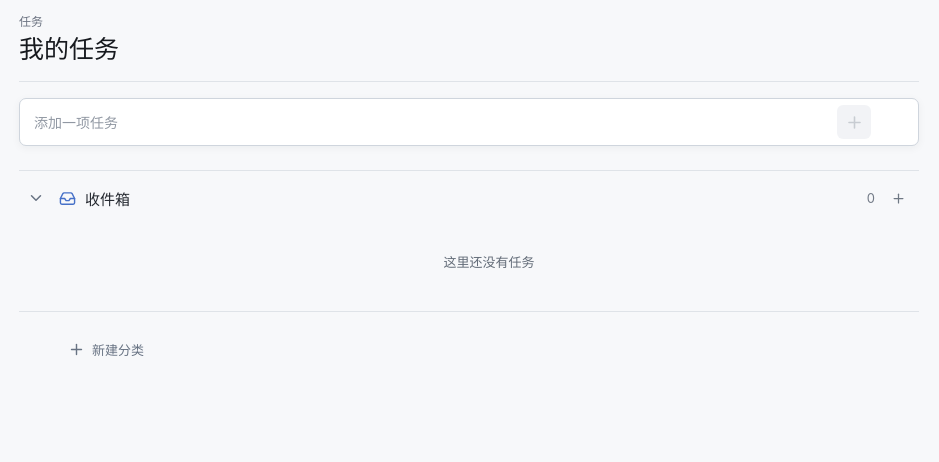
Test case: WorkspaceProvider › keeps only the latest failed draft snapshot and can retry it
The image size is (939, 462).
Type "最新草稿" into the field named "快速添加任务" at (436, 122), box [34,104,837,140]
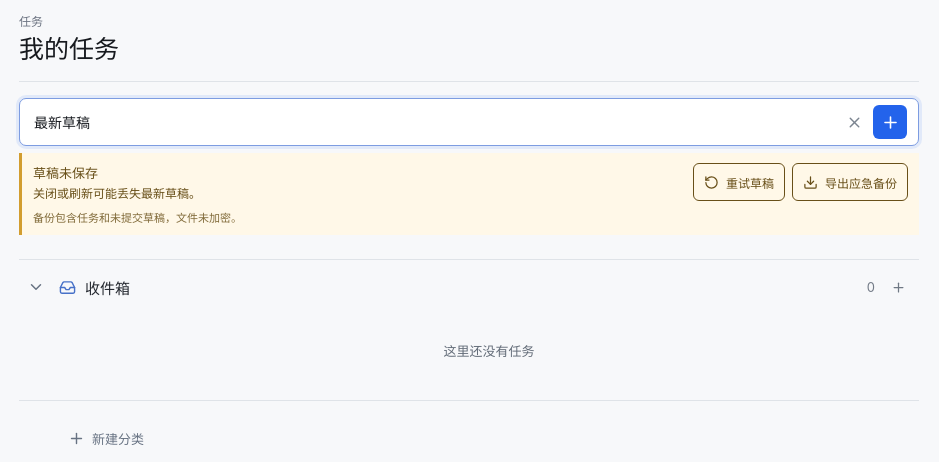
Check: the text "草稿未保存" is shown, box [33,165,98,181]
Click the button "重试草稿" at (739, 182), box [693,163,785,201]
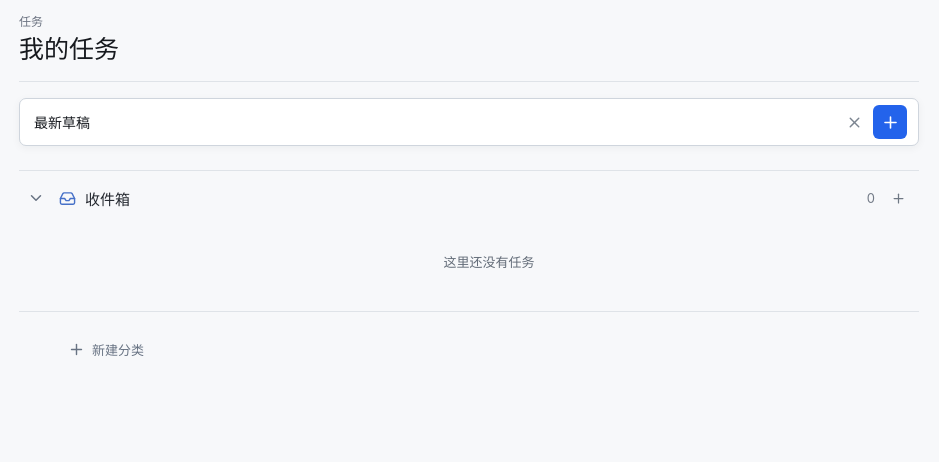
Check: the text "草稿未保存" is gone
